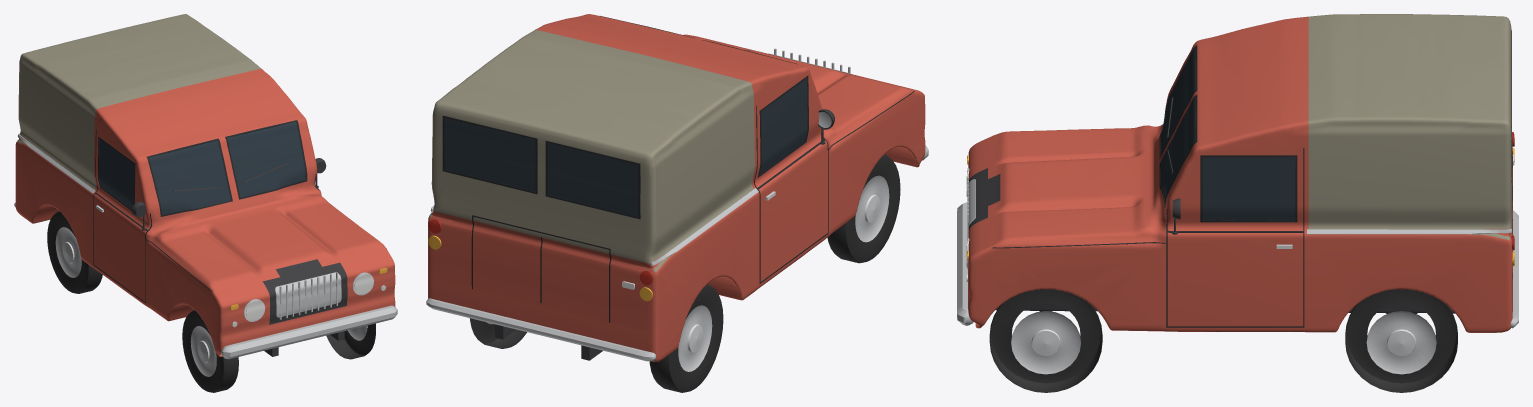
Rendered from landrover.glb.
3 views of the same model, side by side, from view 1: azimuth 30°, elevation 25°; view 2: azimuth 150°, elevation 25°; view 3: azimuth 270°, elevation 25° (orthographic). The views are drawn at different scales.
Visible parts, largest first — view 1: paint, glass, trim, wheel_fr, wheel_rr, wheel_fl, headlights, mirrors; view 2: paint, glass, trim, wheel_fr, wheel_rr, wheel_rl; view 3: paint, wheel_fl, wheel_rl, glass, trim.
Boxes of the visible parts, box(x1,y1,x2,y2) form: paint: box(15, 14, 395, 356); glass: box(99, 121, 305, 215); trim: box(14, 120, 397, 359); wheel_fr: box(182, 310, 238, 392); wheel_rr: box(47, 211, 102, 293); wheel_fl: box(326, 323, 375, 359); headlights: box(246, 274, 372, 320); mirrors: box(132, 158, 326, 230); paint: box(428, 14, 925, 361); glass: box(444, 78, 807, 216); trim: box(426, 16, 928, 361); wheel_fr: box(827, 154, 900, 263); wheel_rr: box(649, 284, 723, 392); wheel_rl: box(469, 318, 526, 348); paint: box(968, 14, 1512, 332); wheel_fl: box(989, 289, 1102, 392); wheel_rl: box(1345, 289, 1457, 392); glass: box(1160, 48, 1295, 220); trim: box(957, 30, 1518, 328).
Size of the model in its own units: 1.84 by 1.95 by 3.53.
